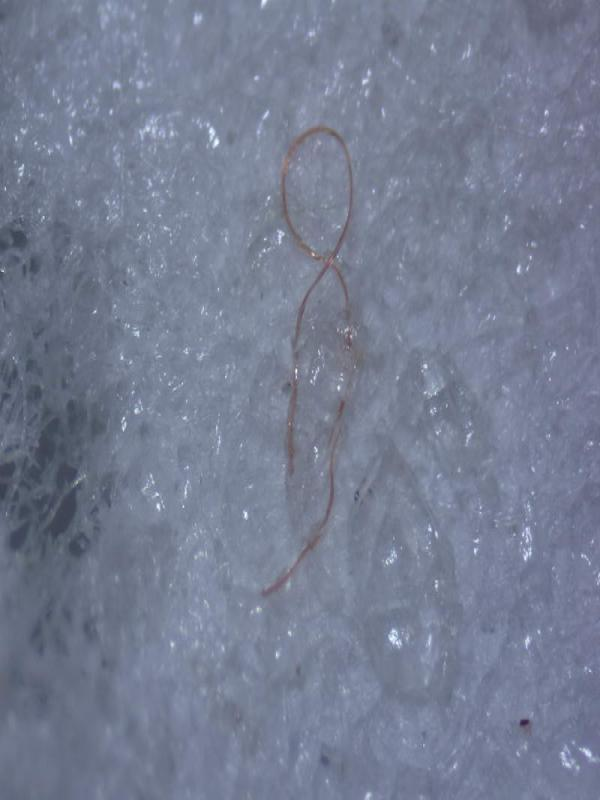microplastic: (258, 121, 360, 599)
